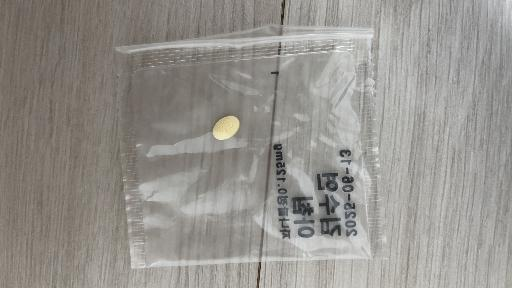Zanapam: (116, 24, 387, 268), (213, 116, 240, 140)
